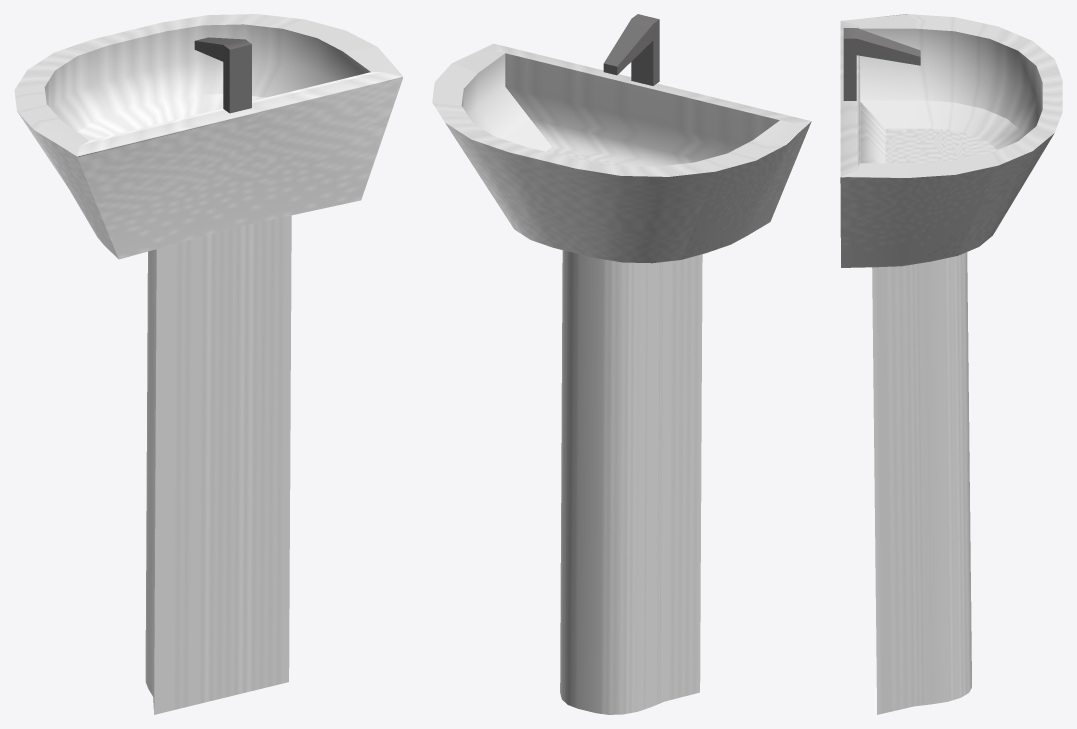
File: Sink.fbx
The picture shows the model from 3 angles, left to right: view 1: azimuth 30°, elevation 25°; view 2: azimuth 150°, elevation 25°; view 3: azimuth 270°, elevation 25°; orthographic projection. The views are drawn at different scales.
Parts seen in each view (by area): view 1: polySurface2, polySurface1, pCube2; view 2: polySurface2, polySurface1, pCube2; view 3: polySurface1, polySurface2, pCube2.
Boxes of the visible parts, box(x1,y1,x2,y2) form: polySurface2: box(145, 215, 291, 714); polySurface1: box(14, 14, 403, 259); pCube2: box(194, 37, 251, 113); polySurface2: box(560, 250, 702, 714); polySurface1: box(432, 43, 811, 263); pCube2: box(603, 14, 659, 85); polySurface1: box(840, 14, 1062, 267); polySurface2: box(872, 252, 971, 714); pCube2: box(843, 28, 920, 100).
Size of the model in its own units: 4.56 by 8.43 by 2.61.
2 materials, 1 textured.
